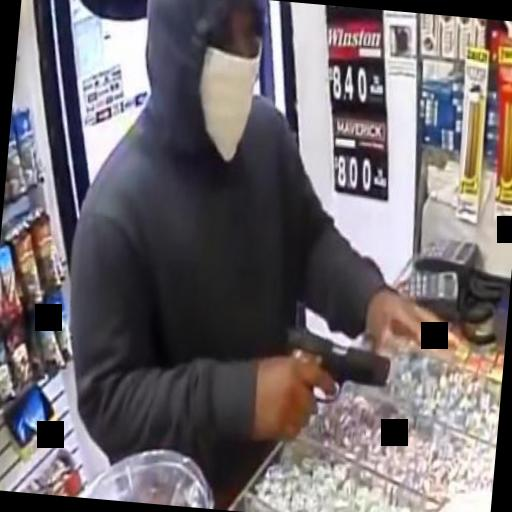Handgun: (275, 323, 394, 445)
